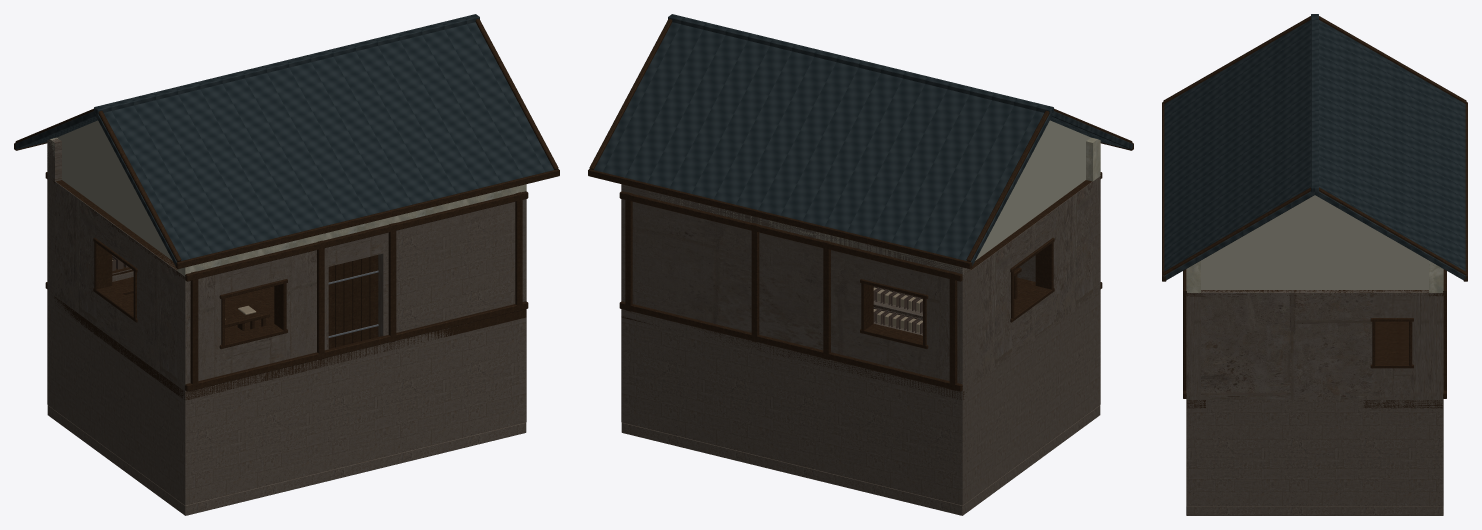
The model's file is s_library.glb.
The picture shows the model from 3 angles, left to right: view 1: azimuth 30°, elevation 25°; view 2: azimuth 150°, elevation 25°; view 3: azimuth 270°, elevation 25°; orthographic projection. The views are drawn at different scales.
Parts seen in each view (by area): view 1: lower foundation, slate roof, upper west slab, closed attic wall, west-colonly.004, west-colonly.001, front-colonly.004, front-colonly.001, front-colonly.006, front-colonly.002, front-colonly.003, west-colonly.002 (+9 smaller); view 2: lower foundation, slate roof, back-colonly.004, upper west slab, closed attic wall, west-colonly.001, west-colonly.004, back-colonly.001, closed attic wall-colonly.001, back-colonly.002, west-colonly.002, back-colonly.003 (+3 smaller); view 3: slate roof, lower foundation, east-colonly.001, closed attic wall, upper west slab, east-colonly.004, front-colonly.006, back-colonly.004, east-colonly.002, east-colonly.003.
Boxes of the visible parts, bbox=[...] form: lower foundation: bbox=[47, 176, 526, 515]; slate roof: bbox=[15, 14, 558, 265]; upper west slab: bbox=[14, 18, 559, 399]; closed attic wall: bbox=[47, 120, 526, 276]; west-colonly.004: bbox=[55, 181, 96, 325]; west-colonly.001: bbox=[136, 240, 177, 384]; front-colonly.004: bbox=[284, 247, 328, 359]; front-colonly.001: bbox=[177, 273, 222, 390]; front-colonly.006: bbox=[378, 199, 526, 336]; front-colonly.002: bbox=[222, 334, 284, 374]; front-colonly.003: bbox=[222, 258, 284, 294]; west-colonly.002: bbox=[96, 294, 135, 353]; lower foundation: bbox=[621, 181, 1100, 515]; slate roof: bbox=[589, 14, 1133, 265]; back-colonly.004: bbox=[621, 199, 863, 359]; upper west slab: bbox=[588, 18, 1133, 399]; closed attic wall: bbox=[649, 120, 1100, 274]; west-colonly.001: bbox=[1051, 180, 1092, 325]; west-colonly.004: bbox=[971, 240, 1011, 384]; back-colonly.001: bbox=[925, 273, 964, 391]; closed attic wall-colonly.001: bbox=[621, 184, 970, 276]; back-colonly.002: bbox=[863, 334, 925, 374]; west-colonly.002: bbox=[1012, 294, 1051, 354]; back-colonly.003: bbox=[863, 258, 925, 293]; slate roof: bbox=[1164, 14, 1465, 280]; lower foundation: bbox=[1186, 293, 1443, 515]; east-colonly.001: bbox=[1201, 290, 1373, 399]; closed attic wall: bbox=[1186, 195, 1443, 292]; upper west slab: bbox=[1162, 16, 1467, 408]; east-colonly.004: bbox=[1410, 290, 1428, 399]; front-colonly.006: bbox=[1186, 293, 1200, 399]; back-colonly.004: bbox=[1429, 293, 1443, 399]; east-colonly.002: bbox=[1373, 368, 1410, 399]; east-colonly.003: bbox=[1373, 290, 1410, 317].
Size of what is drawn, in the model's own units: 11.2 by 10.13 by 8.32.
7 materials, 4 textured.
